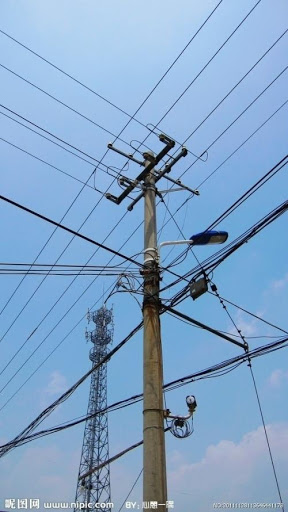utility_pole: (97, 125, 198, 232)
